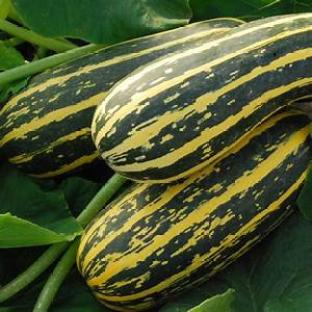Zucchini: (77, 112, 311, 310), (0, 18, 242, 177), (93, 14, 311, 183)
